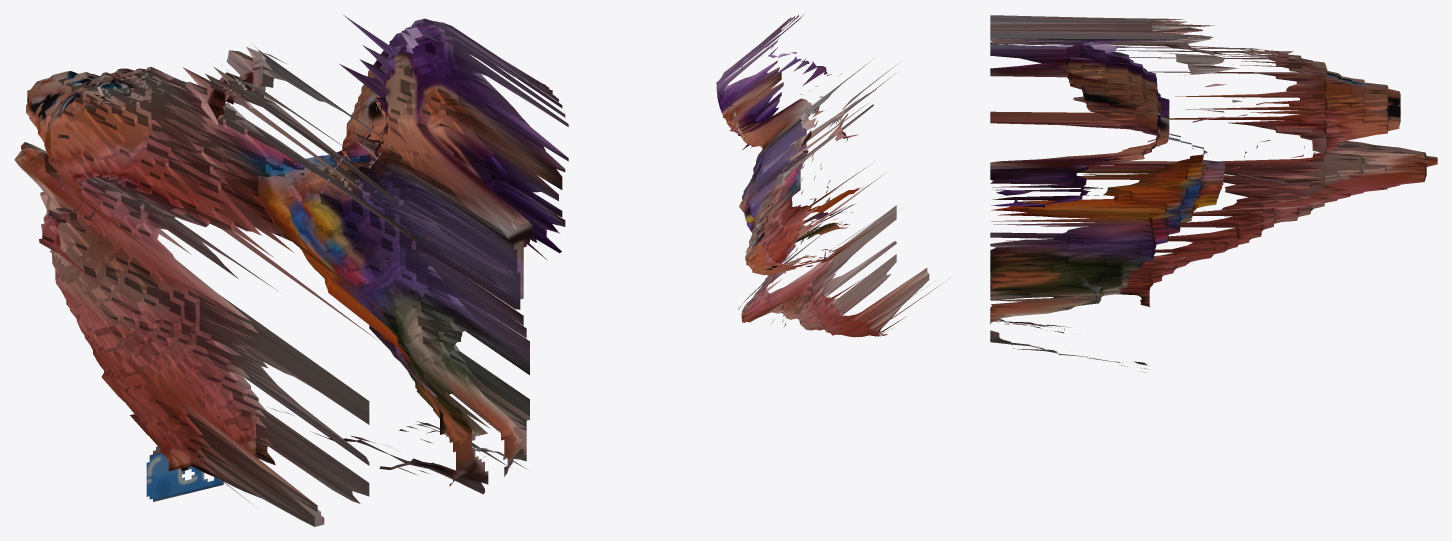
File: frame_00017.glb
3 renders of one model, left to right at view 1: azimuth 30°, elevation 25°; view 2: azimuth 150°, elevation 25°; view 3: azimuth 270°, elevation 25°, orthographic. The views are drawn at different scales.
Visible parts, largest first — view 1: geometry_0; view 2: geometry_0; view 3: geometry_0.
Boxes of the visible parts, <box> form: geometry_0: <box>14,15,568,526</box>; geometry_0: <box>716,14,948,337</box>; geometry_0: <box>990,15,1437,372</box>.
Size of the model in its own units: 0.0961 by 0.1837 by 0.16.
Materials: 1 (1 with a texture image).
